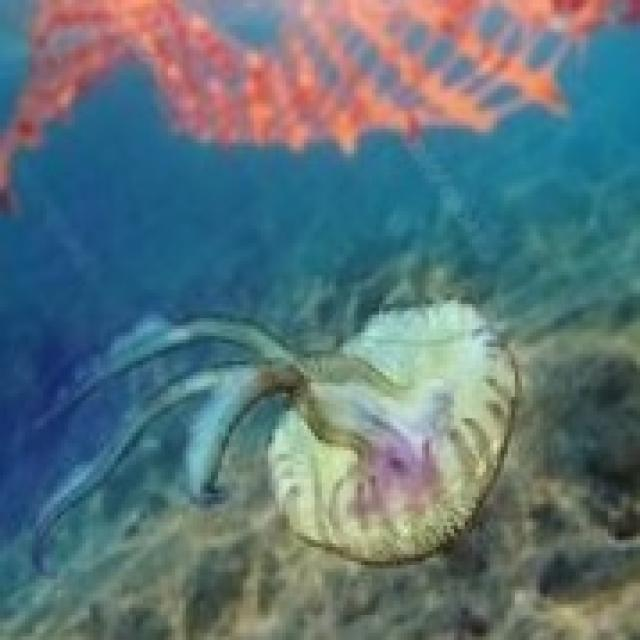Box-jellyfish: (0, 0, 636, 214)
Moon-jellyfish: (25, 282, 526, 568)
